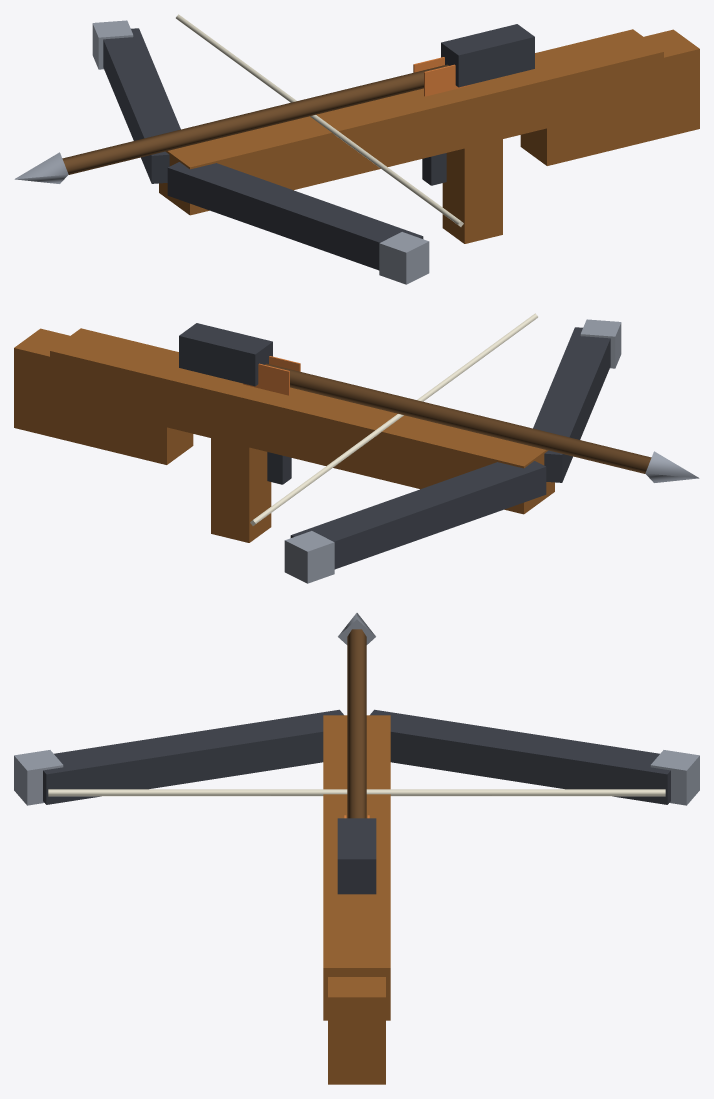
Rendered from crossbow.glb.
3 views of the same model, one above another, from view 1: azimuth 30°, elevation 25°; view 2: azimuth 150°, elevation 25°; view 3: azimuth 270°, elevation 25° (orthographic). The views are drawn at different scales.
Visible parts, largest first — view 1: Crossbow; view 2: Crossbow; view 3: Crossbow.
Part boxes in pixels (x1,y1,x2,y2): Crossbow: (14, 14, 699, 284); Crossbow: (14, 313, 699, 583); Crossbow: (14, 613, 699, 1084).
Size of the model in its own units: 0.88 by 0.235 by 0.7113.
